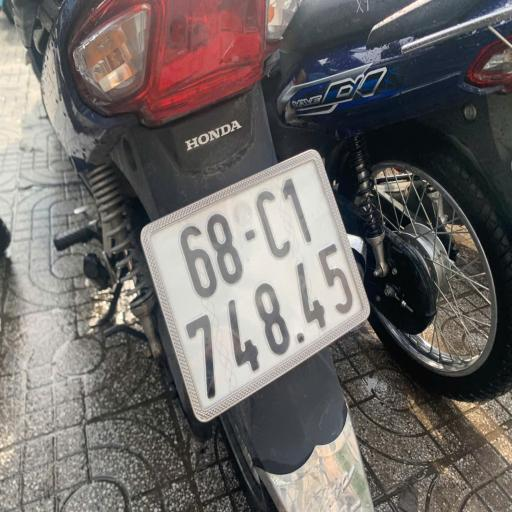1: (278, 169, 330, 246)
4: (221, 291, 272, 393), (294, 254, 333, 335)
5: (315, 240, 364, 319)
6: (174, 217, 222, 310)
7: (173, 305, 233, 408)
8: (247, 275, 297, 360), (203, 208, 253, 287)
C: (251, 179, 296, 270)
